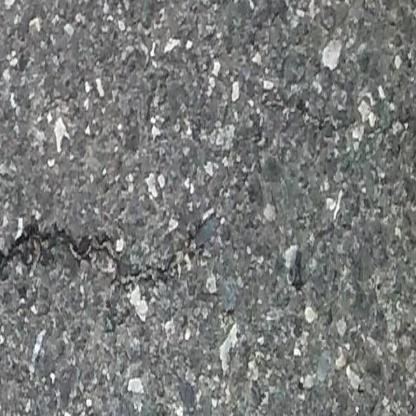Cracks: (0, 204, 220, 293)
